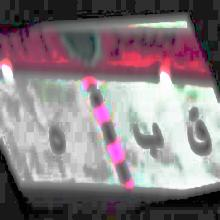5: (45, 124, 73, 164)
baa: (126, 120, 166, 164)
qaaf: (187, 103, 210, 167)
